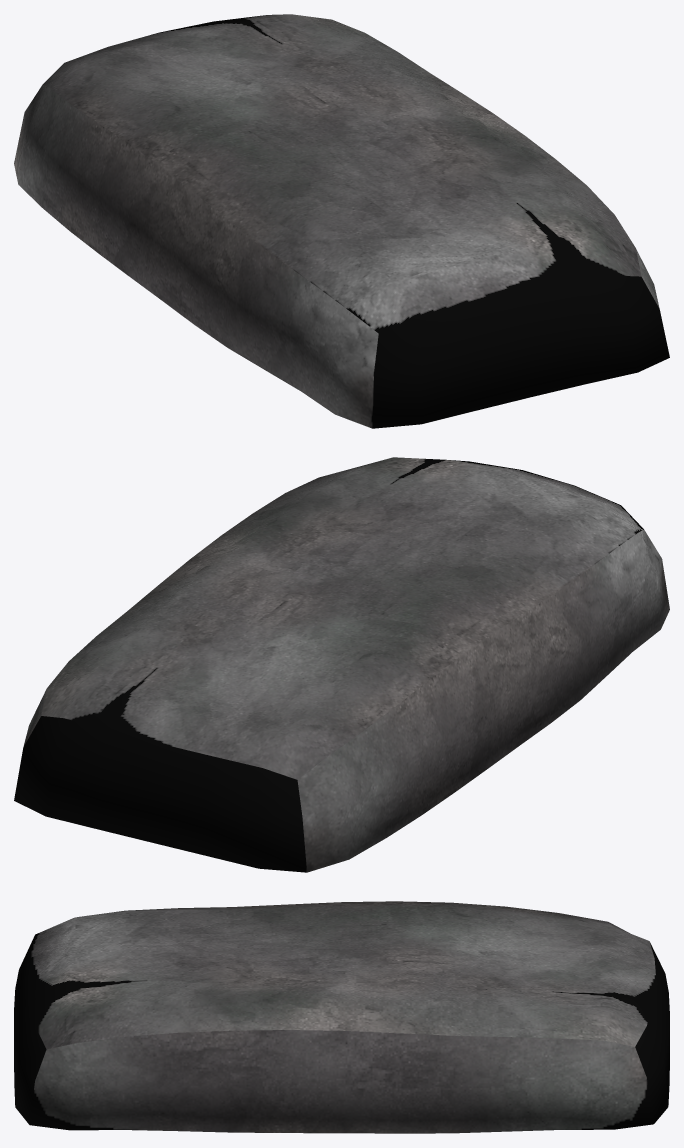
File: tilehalf.fbx
3 views of the same model, one above another, from view 1: azimuth 30°, elevation 25°; view 2: azimuth 150°, elevation 25°; view 3: azimuth 270°, elevation 25° (orthographic). The views are drawn at different scales.
Parts seen in each view (by area): view 1: Cube; view 2: Cube; view 3: Cube.
Part boxes in pixels (left/top/right/bottom): Cube: left=14, top=14, right=669, bottom=428; Cube: left=14, top=457, right=669, bottom=872; Cube: left=14, top=901, right=669, bottom=1133.
Bounding box in the file's own units: 216 × 74.25 × 400.
Materials: 1 (1 with a texture image).
